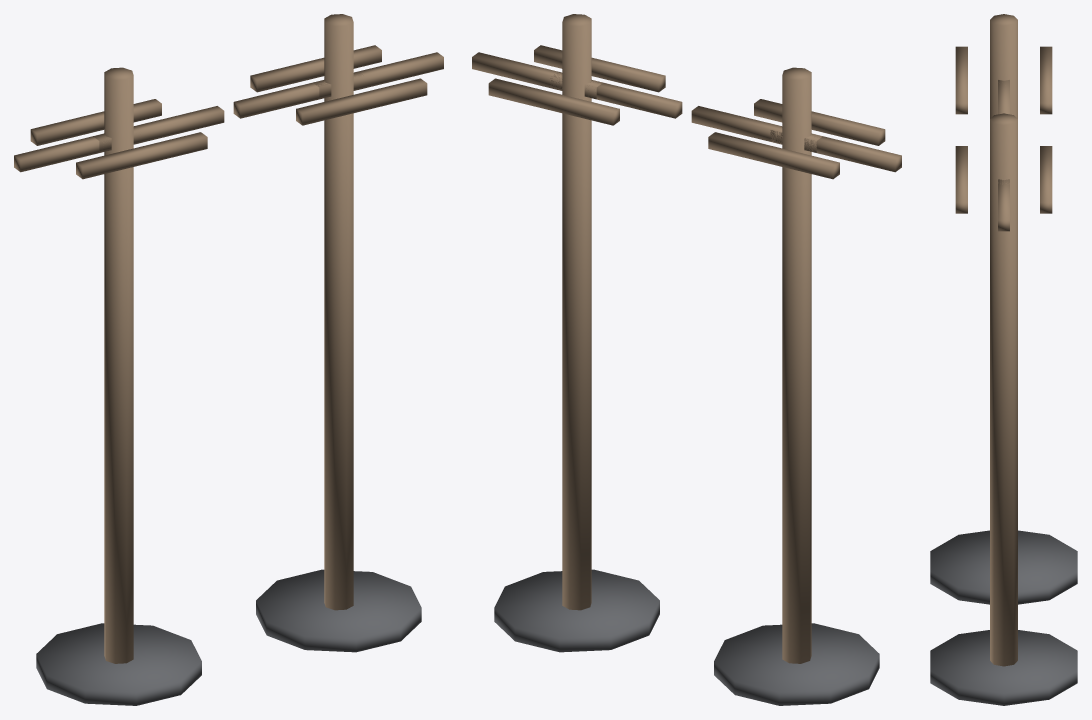
File: coat_rack__cluster.glb
The picture shows the model from 3 angles, left to right: view 1: azimuth 30°, elevation 25°; view 2: azimuth 150°, elevation 25°; view 3: azimuth 270°, elevation 25°; orthographic projection. The views are drawn at different scales.
Visible parts, largest first — view 1: world; view 2: world; view 3: world.
Part boxes in pixels (bbox=[...]): world: bbox=[14, 14, 443, 705]; world: bbox=[472, 14, 901, 705]; world: bbox=[930, 14, 1077, 705].
Size of the model in its own units: 1.29 by 1.74 by 0.4185.
